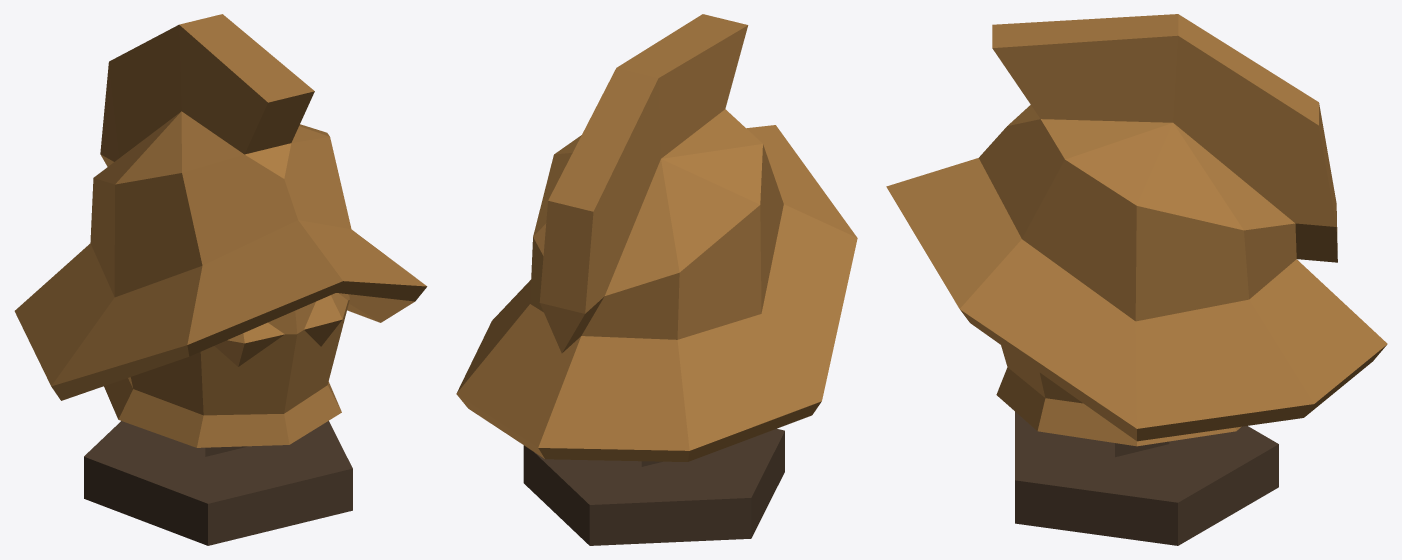
File: empire-helmet-stand-gladiator-empire.glb
3 views of the same model, side by side, from view 1: azimuth 30°, elevation 25°; view 2: azimuth 150°, elevation 25°; view 3: azimuth 270°, elevation 25° (orthographic). The views are drawn at different scales.
Visible parts, largest first — view 1: SM_Helmet_Stand_Gladiator_Empire; view 2: SM_Helmet_Stand_Gladiator_Empire; view 3: SM_Helmet_Stand_Gladiator_Empire.
Boxes of the visible parts, box(x1,y1,x2,y2) form: SM_Helmet_Stand_Gladiator_Empire: box(14, 14, 427, 545); SM_Helmet_Stand_Gladiator_Empire: box(456, 14, 857, 545); SM_Helmet_Stand_Gladiator_Empire: box(886, 14, 1387, 545).
Size of the model in its own units: 0.4155 by 0.5269 by 0.5181.
